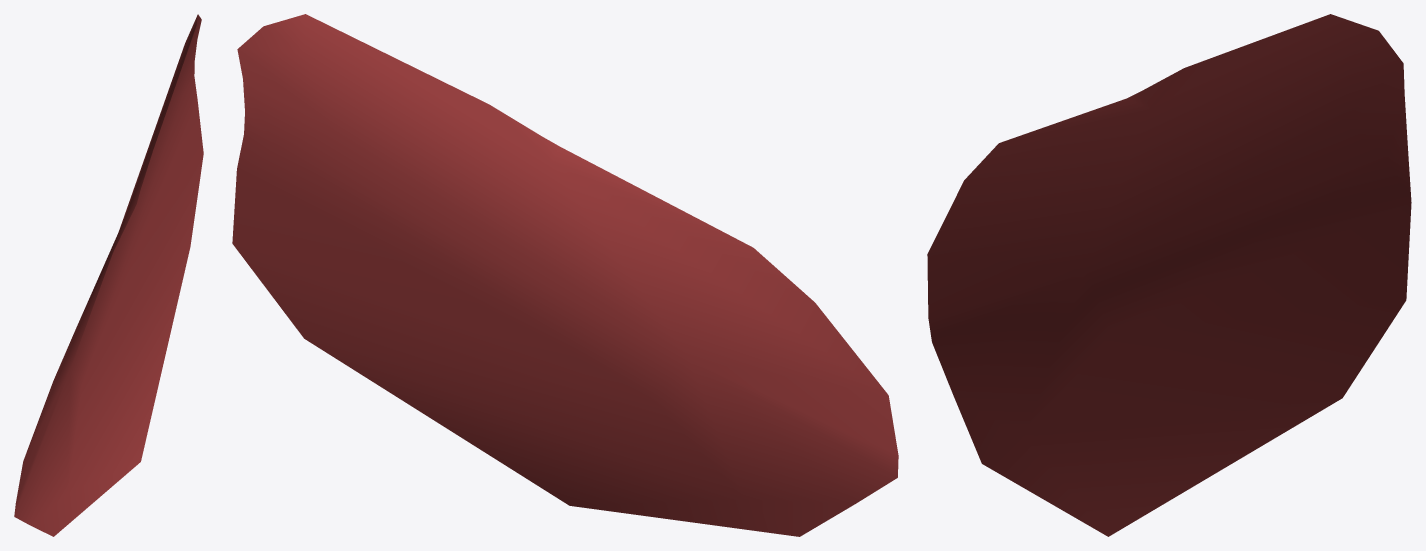
File: longissimus-thoracis-muscle-e24r.glb
The picture shows the model from 3 angles, left to right: view 1: azimuth 30°, elevation 25°; view 2: azimuth 150°, elevation 25°; view 3: azimuth 270°, elevation 25°; orthographic projection. The views are drawn at different scales.
Visible parts, largest first — view 1: Longissimus thoracis muscle.e24r; view 2: Longissimus thoracis muscle.e24r; view 3: Longissimus thoracis muscle.e24r.
Part boxes in pixels (bbox=[...]): Longissimus thoracis muscle.e24r: bbox=[14, 14, 203, 536]; Longissimus thoracis muscle.e24r: bbox=[232, 14, 898, 536]; Longissimus thoracis muscle.e24r: bbox=[927, 14, 1411, 536].
Size of the model in its own units: 0.00417 by 0.00461 by 0.00309.
